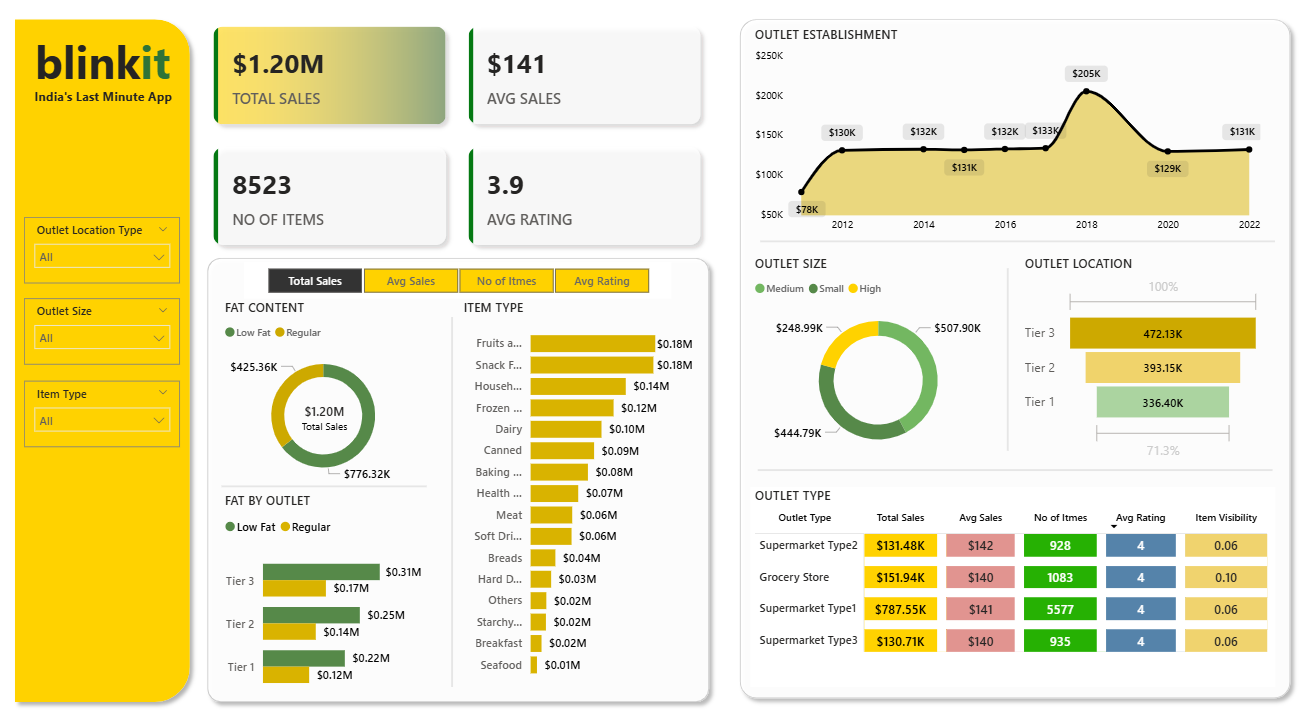

What the dashboard file says about the page in this screenshot:
{"tool":"powerbi","page":{"name":"Page 1","canvas":[1400,800],"ordinal":0},"visuals":[{"type":"shape","box":[13.5,25.5,205.6,750.4],"z":0},{"type":"textbox","box":[32.2,41.6,168.9,77.7],"z":1000},{"type":"textbox","box":[33.5,103.2,167.6,30.8],"z":2000},{"type":"cardVisual","fields":{"Data":["BlinkIT Grocery Data.Total Sales","BlinkIT Grocery Data.Avg Sales","BlinkIT Grocery Data.No of Itmes","BlinkIT Grocery Data.Avg Rating"]},"box":[218.5,25.5,557.6,269.4],"z":3000},{"type":"shape","box":[219.8,281.5,556.3,494.6],"z":4000},{"type":"donutChart","title":"FAT CONTENT","fields":{"Y":["BlinkIT Grocery Data.Total Sales"],"Category":["BlinkIT Grocery Data.Item Fat Content"]},"box":[242.6,333.8,221.2,207.8],"z":5000},{"type":"slicer","fields":{"Values":["Metrics.Metrics"]},"box":[268.1,294.9,458.4,38.9],"z":6000},{"type":"cardVisual","fields":{"Data":["BlinkIT Grocery Data.Total Sales"]},"box":[307,429,95.2,55],"z":7000},{"type":"clusteredBarChart","title":"FAT BY OUTLET","fields":{"Y":["BlinkIT Grocery Data.Total Sales"],"Category":["BlinkIT Grocery Data.Outlet Location Type"],"Series":["BlinkIT Grocery Data.Item Fat Content"]},"box":[242.6,541.6,221.2,230.6],"z":8000},{"type":"shape","box":[244,529.5,221.2,12.1],"z":9000},{"type":"shape","box":[485.3,353.9,12.1,396.8],"z":10000},{"type":"barChart","title":"ITEM TYPE","fields":{"Y":["BlinkIT Grocery Data.Total Sales"],"Category":["BlinkIT Grocery Data.Item Type"]},"box":[498.7,333.8,256,416.9],"z":11000},{"type":"shape","box":[790.9,25.5,608.6,746.7],"z":12000},{"type":"lineChart","title":"OUTLET ESTABLISHMENT","fields":{"Category":["BlinkIT Grocery Data.Outlet Establishment Year"],"Y":["BlinkIT Grocery Data.Total Sales"]},"box":[811,41.6,552.3,230.6],"z":13000},{"type":"shape","box":[821.7,266.8,552.3,12.1],"z":14000},{"type":"donutChart","title":"OUTLET SIZE","fields":{"Y":["BlinkIT Grocery Data.Total Sales"],"Category":["BlinkIT Grocery Data.Outlet Size"]},"box":[811,286.9,274.8,225.2],"z":15000},{"type":"shape","box":[1080.4,301.6,13.4,195.7],"z":16000},{"type":"funnel","title":"OUTLET LOCATION","fields":{"Category":["BlinkIT Grocery Data.Outlet Location Type"],"Y":["Sum(BlinkIT Grocery Data.Sales)"]},"box":[1100.5,286.9,262.7,225.2],"z":17000},{"type":"shape","box":[819,512.1,552.3,12.1],"z":18000},{"type":"pivotTable","title":"OUTLET TYPE","fields":{"Rows":["BlinkIT Grocery Data.Outlet Type"],"Values":["BlinkIT Grocery Data.Total Sales","BlinkIT Grocery Data.Avg Sales","BlinkIT Grocery Data.No of Itmes","BlinkIT Grocery Data.Avg Rating","Avg(BlinkIT Grocery Data.Item Visibility)"]},"box":[811,536.2,563,214.5],"z":19000},{"type":"slicer","fields":{"Values":["BlinkIT Grocery Data.Outlet Location Type"]},"box":[32.2,246.7,167.6,71],"z":19001},{"type":"slicer","fields":{"Values":["BlinkIT Grocery Data.Outlet Size"]},"box":[32.2,333.8,167.6,71],"z":19002},{"type":"slicer","fields":{"Values":["BlinkIT Grocery Data.Item Type"]},"box":[32.2,422.3,167.6,71],"z":19003}]}

Visuals, with their boxes on the page's 1400x800 design canvas (x1, y1, x2, y2). These are canvas units, not pixel positions in the 1300x712 screenshot, which may show the page scaled, cropped or inside an application window:
shape: (x1=14, y1=26, x2=219, y2=776)
textbox: (x1=32, y1=42, x2=201, y2=119)
textbox: (x1=34, y1=103, x2=201, y2=134)
cardVisual - BlinkIT Grocery Data.Total Sales x BlinkIT Grocery Data.Avg Sales: (x1=218, y1=26, x2=776, y2=295)
shape: (x1=220, y1=282, x2=776, y2=776)
"FAT CONTENT" donutChart: (x1=243, y1=334, x2=464, y2=542)
slicer - Metrics.Metrics: (x1=268, y1=295, x2=726, y2=334)
cardVisual - BlinkIT Grocery Data.Total Sales: (x1=307, y1=429, x2=402, y2=484)
"FAT BY OUTLET" clusteredBarChart: (x1=243, y1=542, x2=464, y2=772)
shape: (x1=244, y1=530, x2=465, y2=542)
shape: (x1=485, y1=354, x2=497, y2=751)
"ITEM TYPE" barChart: (x1=499, y1=334, x2=755, y2=751)
shape: (x1=791, y1=26, x2=1400, y2=772)
"OUTLET ESTABLISHMENT" lineChart: (x1=811, y1=42, x2=1363, y2=272)
shape: (x1=822, y1=267, x2=1374, y2=279)
"OUTLET SIZE" donutChart: (x1=811, y1=287, x2=1086, y2=512)
shape: (x1=1080, y1=302, x2=1094, y2=497)
"OUTLET LOCATION" funnel: (x1=1100, y1=287, x2=1363, y2=512)
shape: (x1=819, y1=512, x2=1371, y2=524)
"OUTLET TYPE" pivotTable: (x1=811, y1=536, x2=1374, y2=751)
slicer - BlinkIT Grocery Data.Outlet Location Type: (x1=32, y1=247, x2=200, y2=318)
slicer - BlinkIT Grocery Data.Outlet Size: (x1=32, y1=334, x2=200, y2=405)
slicer - BlinkIT Grocery Data.Item Type: (x1=32, y1=422, x2=200, y2=493)
